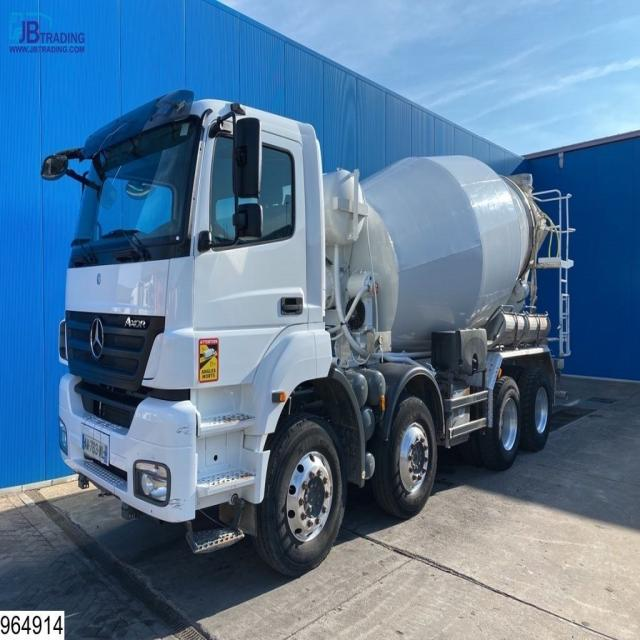Mixer Truck: (59, 92, 575, 577)
